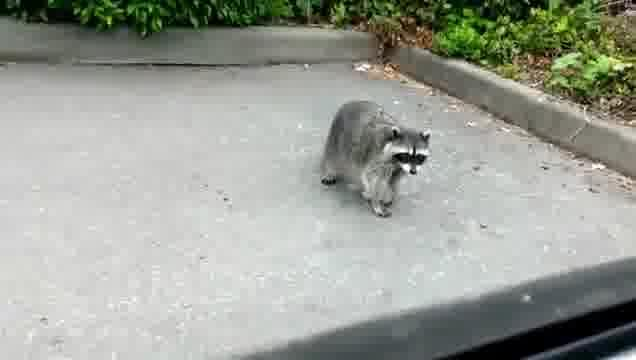raccoon: (319, 93, 437, 221)
